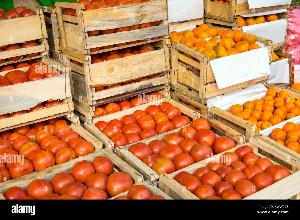orange: (224, 95, 300, 153), (168, 28, 264, 56)
tomato: (1, 153, 157, 201), (173, 148, 288, 204), (128, 113, 235, 173), (0, 113, 90, 181), (100, 92, 184, 144), (79, 14, 167, 62), (0, 50, 57, 96), (58, 0, 170, 16), (0, 1, 42, 28)
